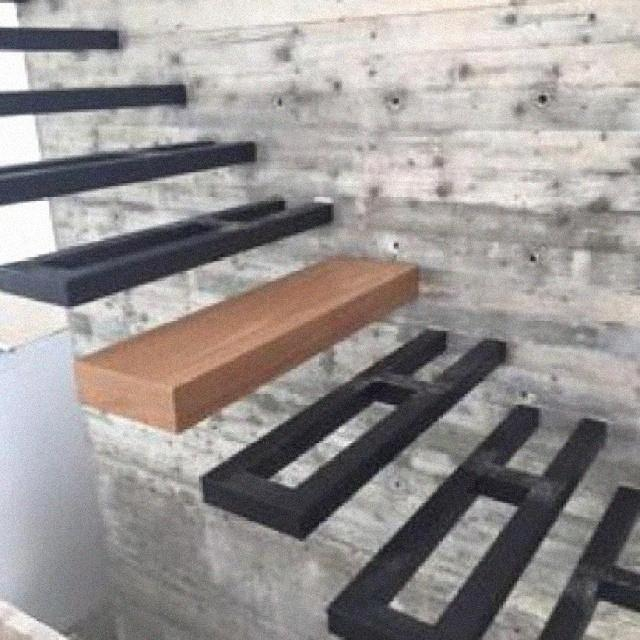stair: (2, 5, 635, 638)
